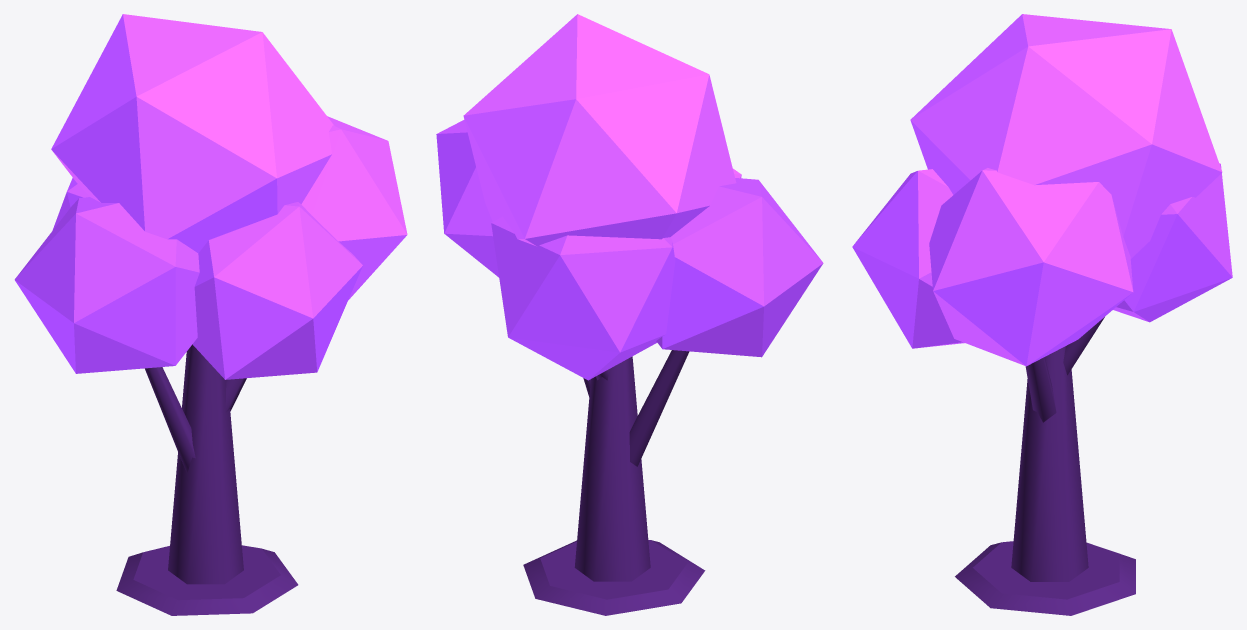
The model's file is Tree_Neon_Amethyst.glb.
3 renders of one model, left to right at view 1: azimuth 30°, elevation 25°; view 2: azimuth 150°, elevation 25°; view 3: azimuth 270°, elevation 25°, orthographic.
Parts seen in each view (by area): view 1: Tree_Neon_Amethyst; view 2: Tree_Neon_Amethyst; view 3: Tree_Neon_Amethyst.
Part boxes in pixels (x1=…): Tree_Neon_Amethyst: x1=14, y1=14, x2=407, y2=615; Tree_Neon_Amethyst: x1=436, y1=14, x2=823, y2=615; Tree_Neon_Amethyst: x1=852, y1=14, x2=1232, y2=615.
Size of the model in its own units: 2.48 by 3.68 by 2.29.
